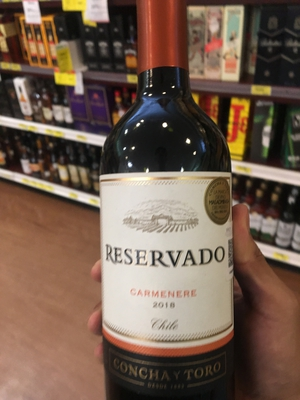reservado carmenere: (92, 10, 243, 400)
